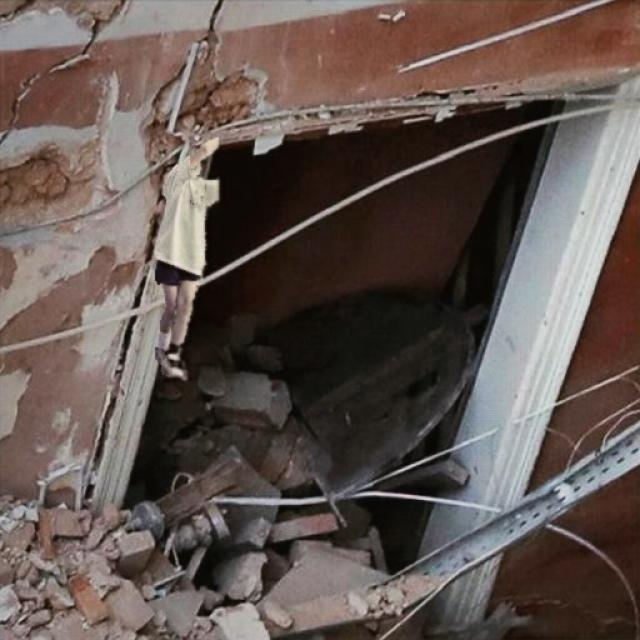Person in Rubble: (154, 138, 218, 378)
